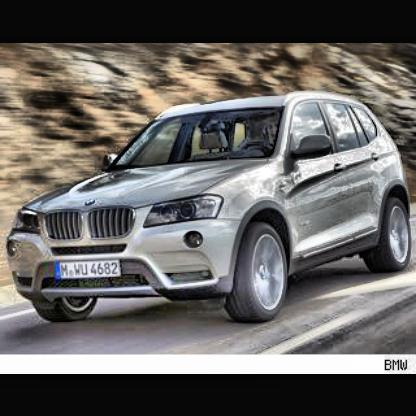BMW X3 SUV 2012: (6, 91, 415, 325)
